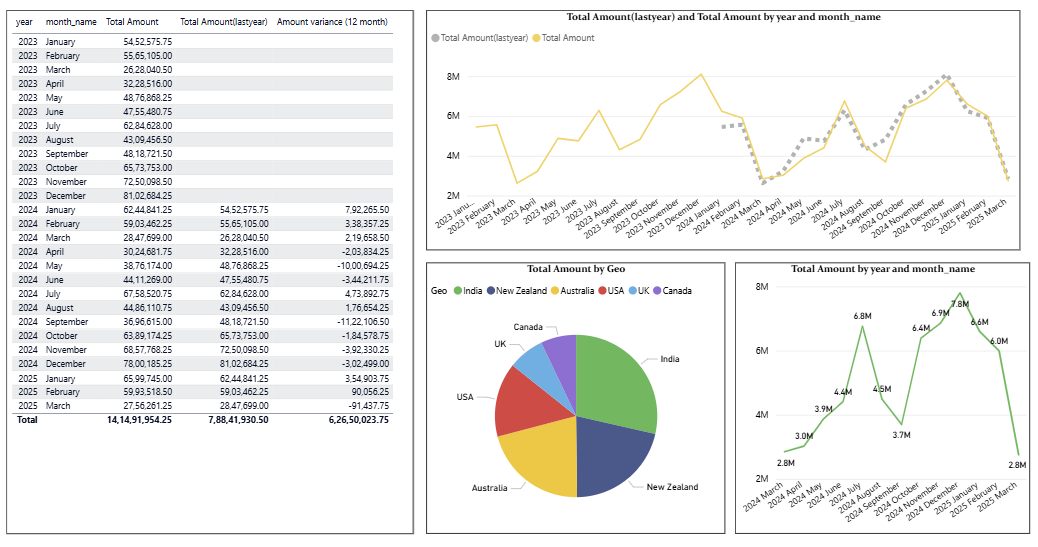

Layout of this report page (visuals, bound fields, positions):
{"tool":"powerbi","page":{"name":"Amount Calculate 1yr","canvas":[1280,720],"ordinal":5},"visuals":[{"type":"lineChart","fields":{"Y":["shipments.Total Amount"],"Category":["calendar.year","calendar.month_name"]},"box":[903.8,345,356.2,298.8],"z":0},{"type":"tableEx","fields":{"Values":["calendar.year","calendar.month_name","shipments.Total Amount","calendar.Total Amount(lastyear)","calendar.Amount variance (12 month)"]},"box":[0,0,577.5,658.8],"z":1000},{"type":"lineChart","fields":{"Y":["calendar.Total Amount(lastyear)","shipments.Total Amount"],"Category":["calendar.year","calendar.month_name"]},"box":[567.5,0,712.5,330],"z":2000},{"type":"pieChart","fields":{"Y":["shipments.Total Amount"],"Category":["locations.Geo"]},"box":[567.5,330,346.2,328.8],"z":3000}]}

Visuals, with their boxes on the page's 1280x720 design canvas (x1, y1, x2, y2). These are canvas units, not pixel positions in the 1038x547 screenshot, which may show the page scaled, cropped or inside an application window:
lineChart - shipments.Total Amount x calendar.year: x1=904, y1=345, x2=1260, y2=644
tableEx - calendar.year x calendar.month_name: x1=0, y1=0, x2=578, y2=659
lineChart - calendar.Total Amount(lastyear) x shipments.Total Amount: x1=568, y1=0, x2=1280, y2=330
pieChart - shipments.Total Amount x locations.Geo: x1=568, y1=330, x2=914, y2=659
